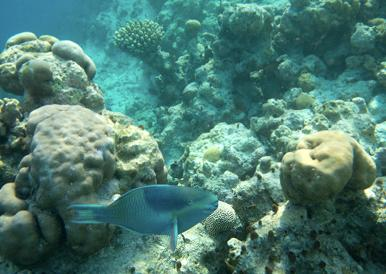Scaridae -Parrotfishes-: (64, 182, 219, 252)
